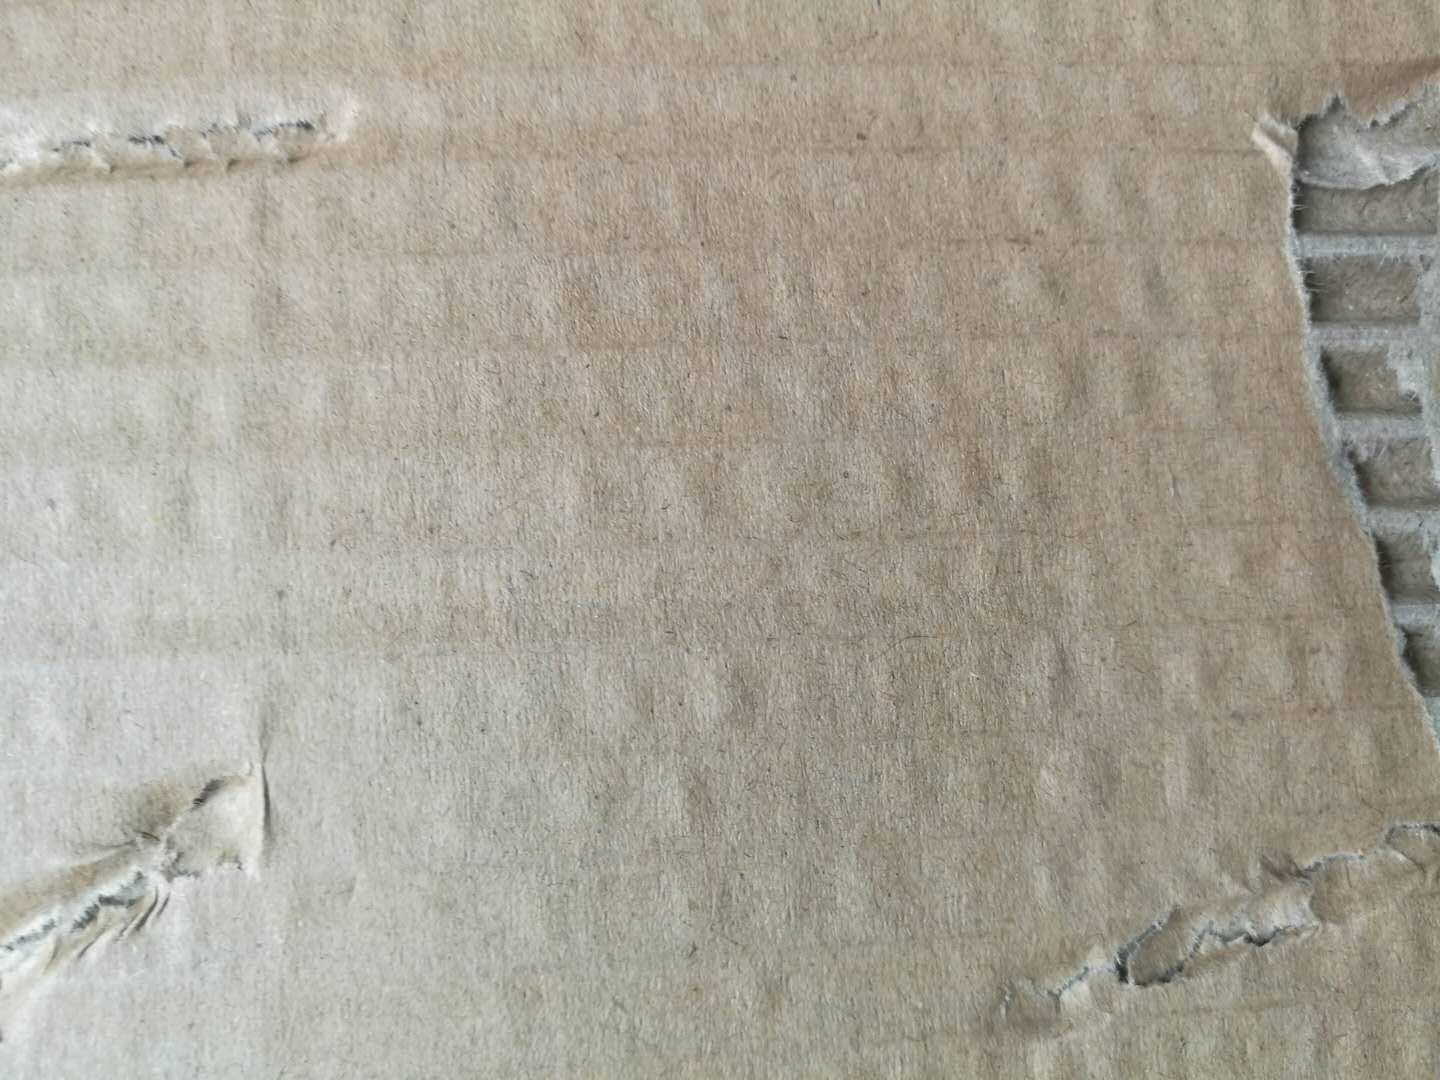defect: (1225, 32, 1440, 786), (964, 784, 1440, 1068), (2, 684, 334, 1051), (1, 58, 403, 212)
